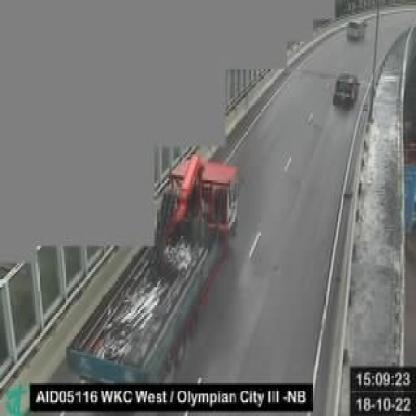Car: (332, 72, 361, 112), (346, 17, 367, 43)
Truck: (65, 155, 240, 385)
